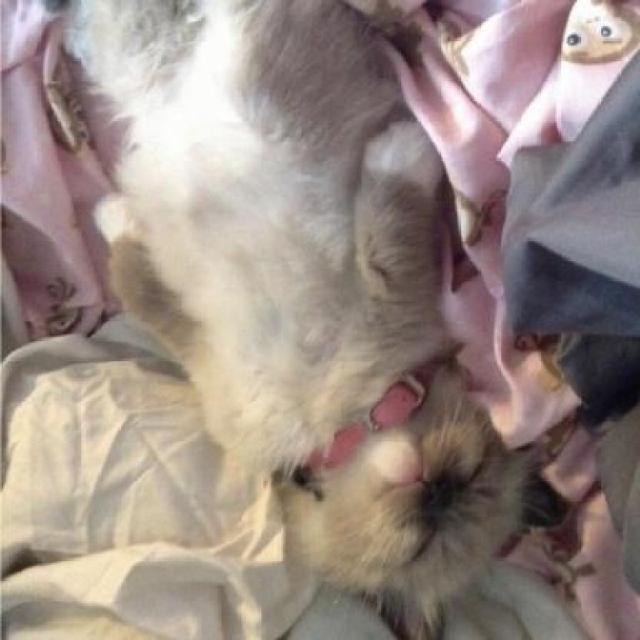cat: (60, 0, 572, 640)
